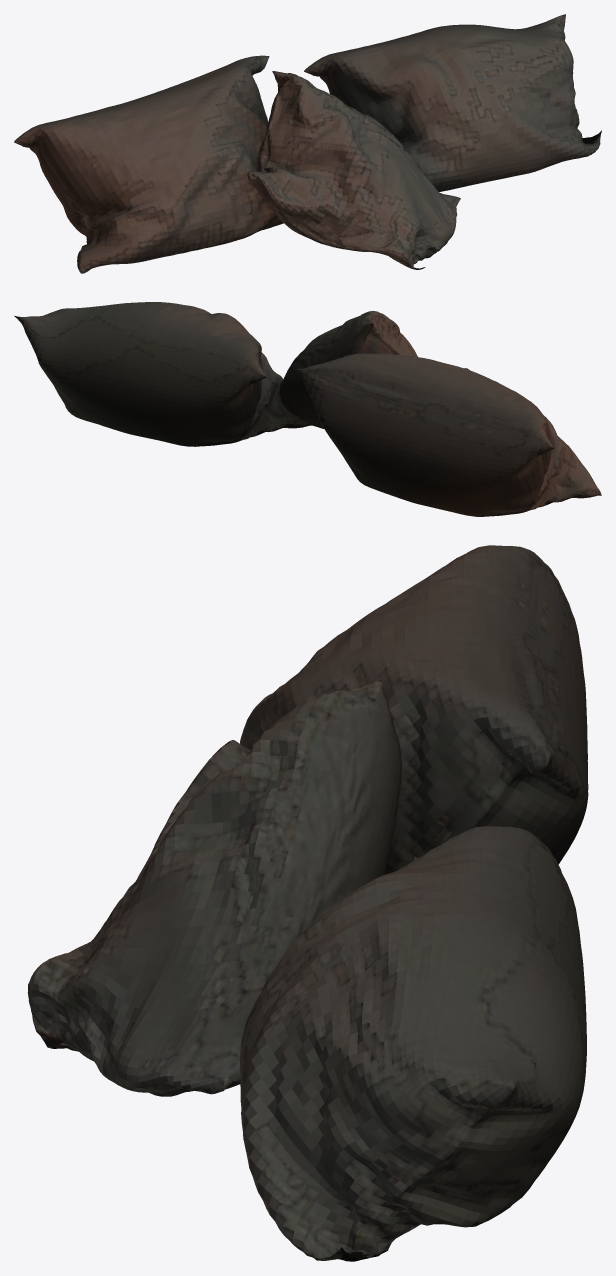
Rendered from pillows.glb.
3 renders of one model, top to bottom at view 1: azimuth 30°, elevation 25°; view 2: azimuth 150°, elevation 25°; view 3: azimuth 270°, elevation 25°, orthographic. The views are drawn at different scales.
Parts seen in each view (by area): view 1: pillow.001; view 2: pillow.001; view 3: pillow.001.
Part boxes in pixels (<box>): pillow.001: <box>14,14,601,273</box>; pillow.001: <box>14,302,601,516</box>; pillow.001: <box>27,545,588,1261</box>.
Bounding box in the file's own units: 1.13 × 0.3147 × 0.5039.
1 material, 1 textured.
